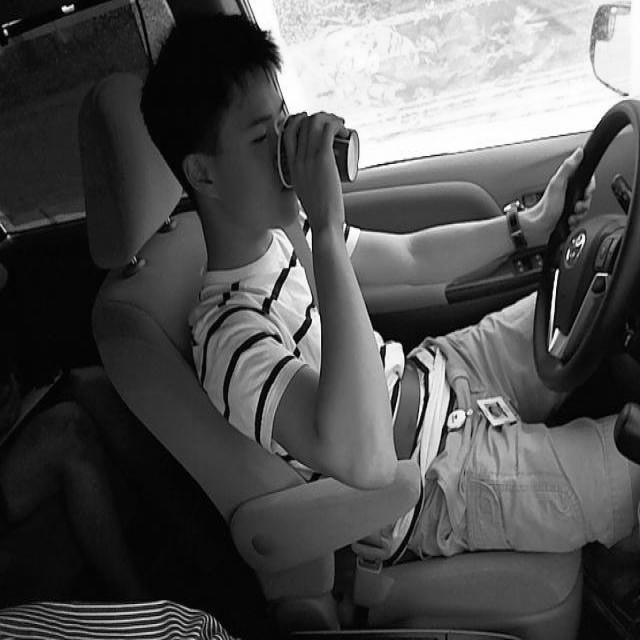Drinking: (275, 114, 361, 190)
